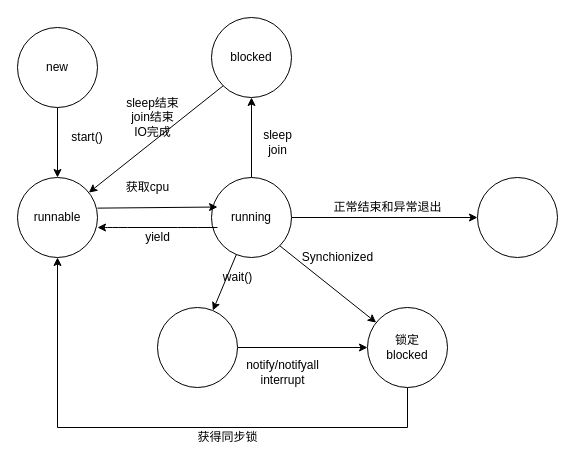
Some shapes in this 575 by 465 pixel diagram are drawn without their labels. The box of each missing label's shape, as (x1, y1, x2, y2) in pixels:
dead: (476, 176, 558, 258)
等待 blocked: (156, 306, 238, 388)
